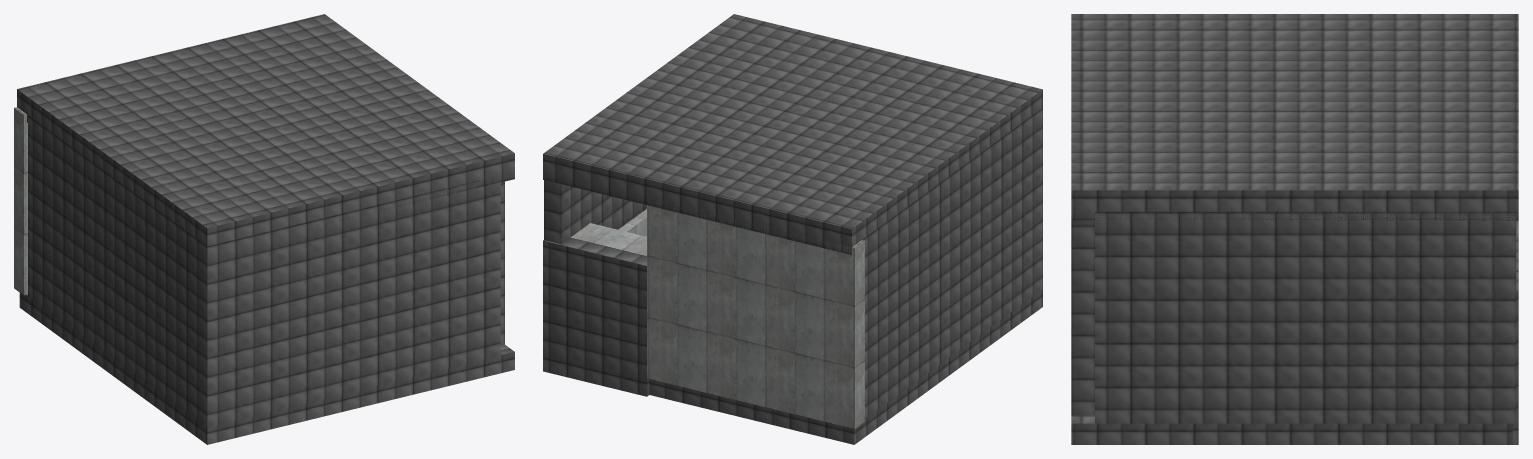
File: Level_34.fbx
3 renders of one model, left to right at view 1: azimuth 30°, elevation 25°; view 2: azimuth 150°, elevation 25°; view 3: azimuth 270°, elevation 25°, orthographic. The views are drawn at different scales.
Parts seen in each view (by area): view 1: NoTeleport.023, Wall.024; view 2: NoTeleport.023, Wall.024; view 3: NoTeleport.023.
Boxes of the visible parts, x1,y1,x2,y2 form: NoTeleport.023: (17,14,514,444); Wall.024: (14,107,27,295); NoTeleport.023: (543,14,1042,444); Wall.024: (571,202,864,429); NoTeleport.023: (1071,14,1518,444).
Size of the model in its own units: 18 by 19.1 by 12.
